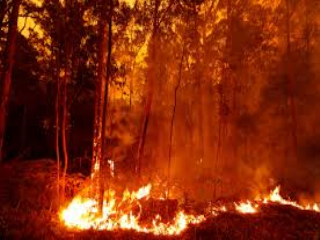fire: (57, 173, 252, 232), (254, 180, 313, 214)
